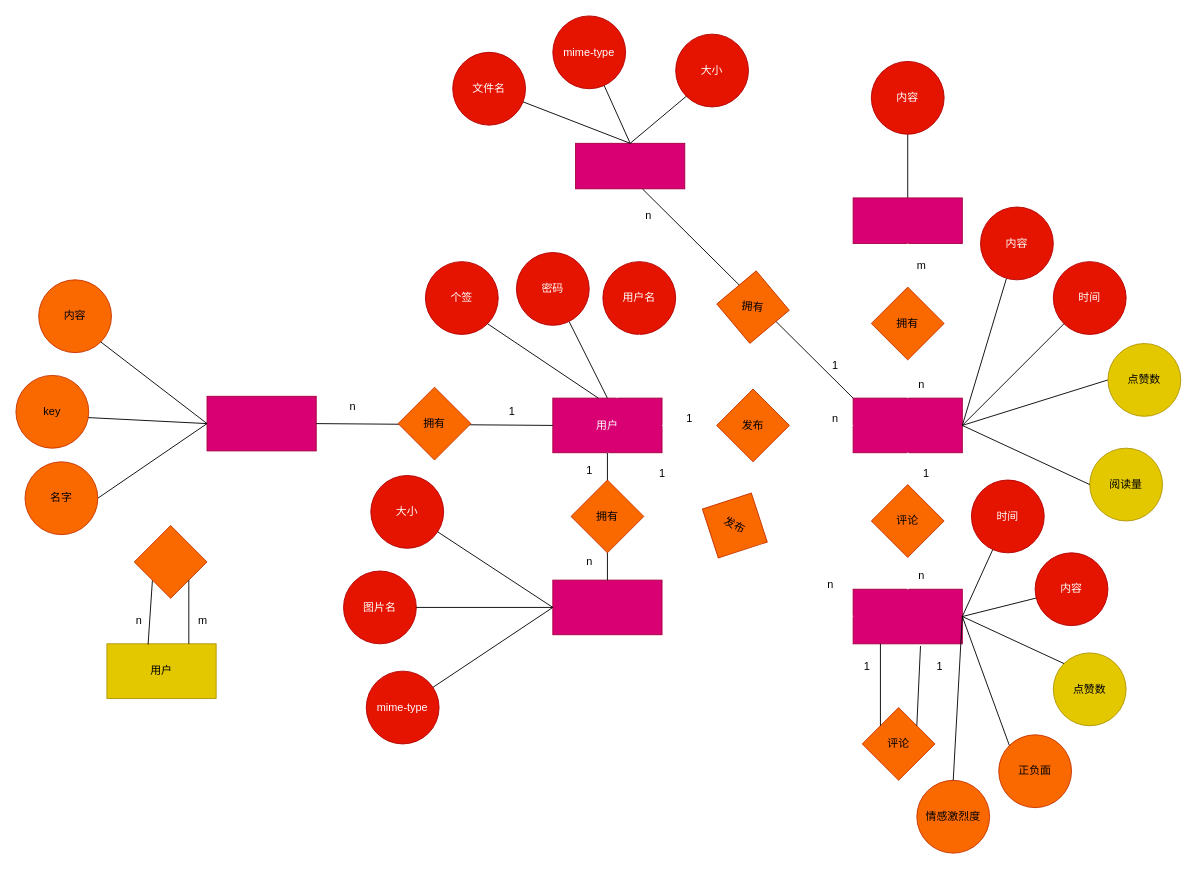
This 1197x869 diagram has some shape labels left out. The centre of each missing label's shape, as x and y in pixels:
AI会话: the point at 261,423
关注: the point at 170,561
头像图片: the point at 607,607
文章: the point at 907,425
标签: the point at 907,220
用户评论: the point at 907,616
配图: the point at 630,165
